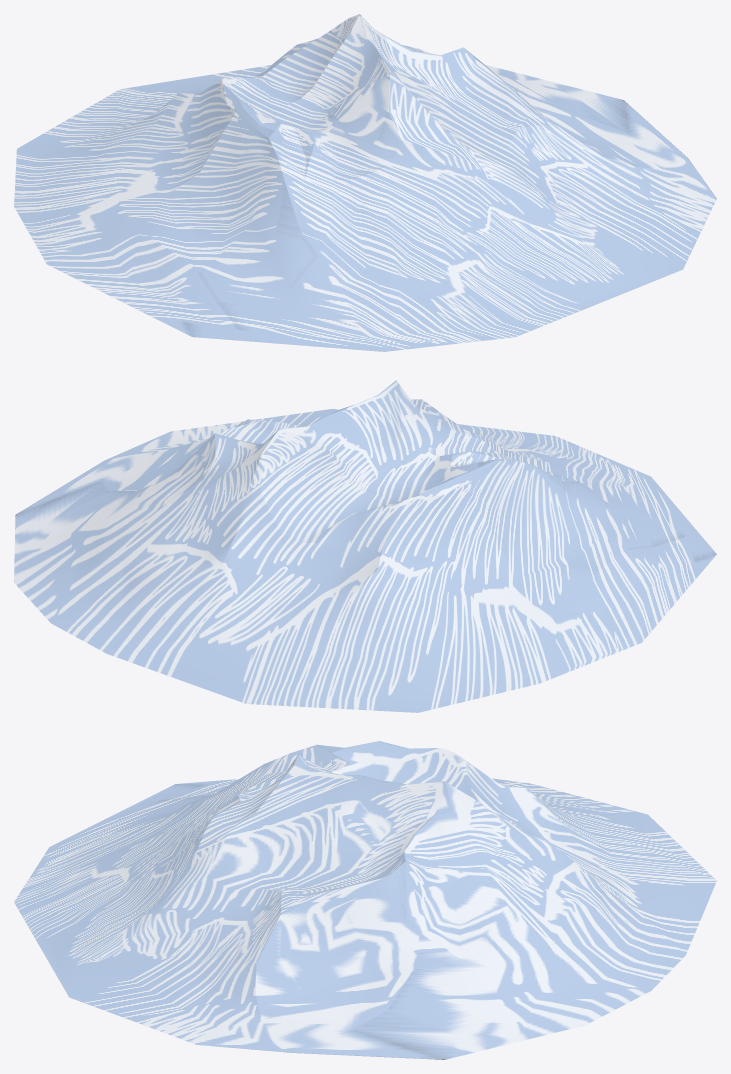
The model's file is mountainL.glb.
3 views of the same model, one above another, from view 1: azimuth 30°, elevation 25°; view 2: azimuth 150°, elevation 25°; view 3: azimuth 270°, elevation 25° (orthographic).
Parts seen in each view (by area): view 1: Mountain.L; view 2: Mountain.L; view 3: Mountain.L.
Boxes of the visible parts, x1,y1,x2,y2 form: Mountain.L: (14,14,716,351); Mountain.L: (14,380,716,712); Mountain.L: (14,741,716,1059).
Size of the model in its own units: 136 by 33.7 by 138.
Materials: 1 (1 with a texture image).
